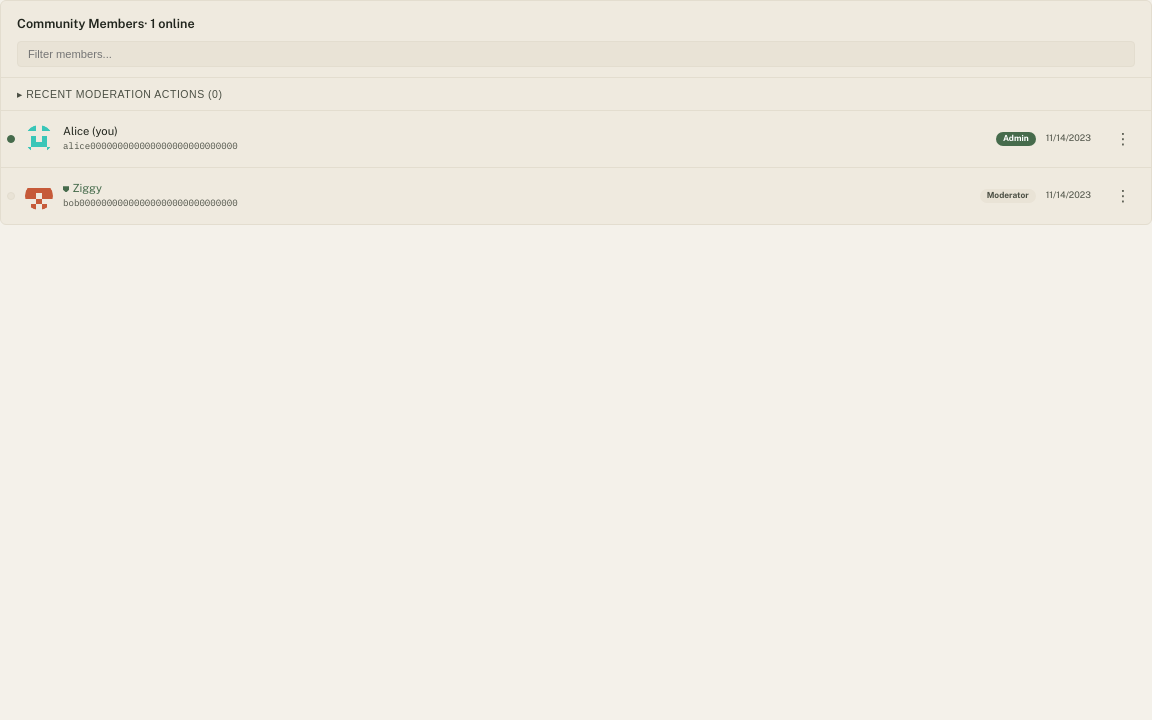
Scenario: moderation dialog resolves the target name through the ladder (ZEB-957) › shows the friend nickname in the kick confirmation, not the roster displayName
The width and height of the screenshot is (1152, 720).
Click the button with class "kebab-btn" in the row of "Ziggy" at [1123, 196], box [1101,174,1145,218]
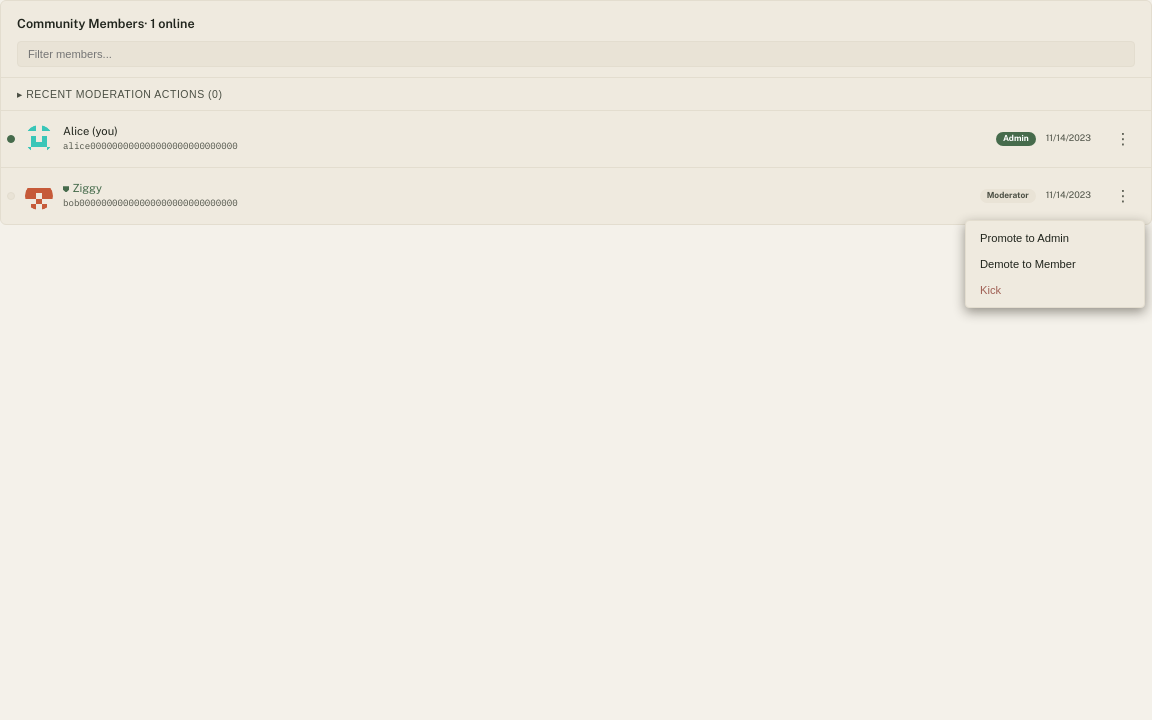
Click the menu item "Kick" at [1055, 290], box [966,277,1144,303]
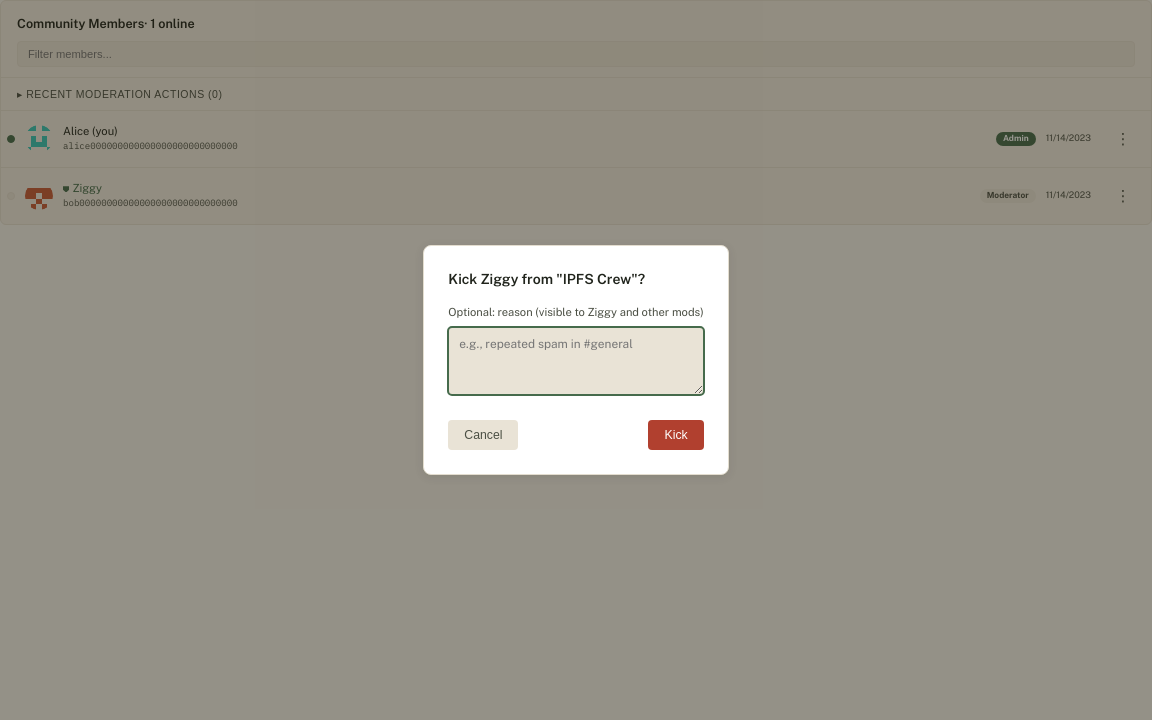
Expected: the heading "Kick Ziggy from \"IPFS Crew\"?" is shown, [448,271,645,287]
